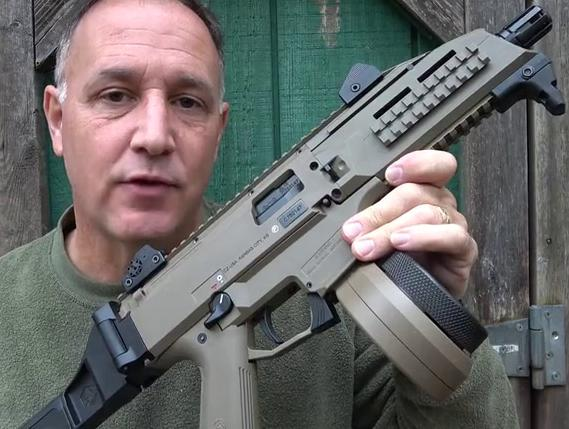gun: (1, 0, 569, 429)
